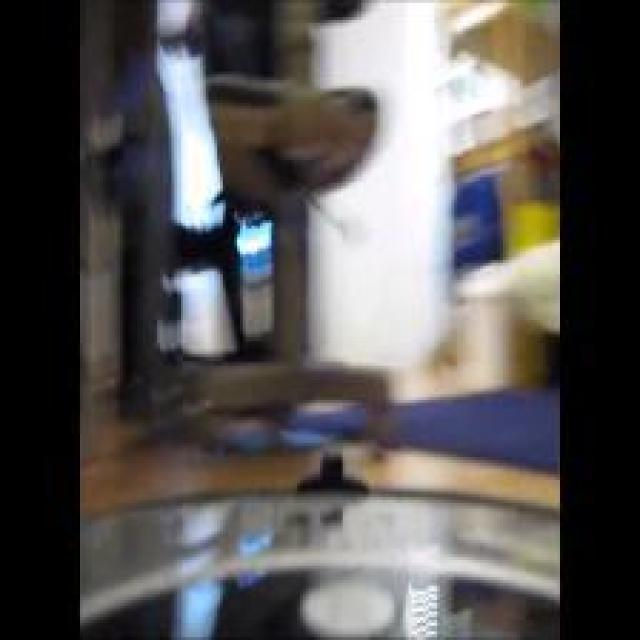other: (479, 178, 551, 250)
